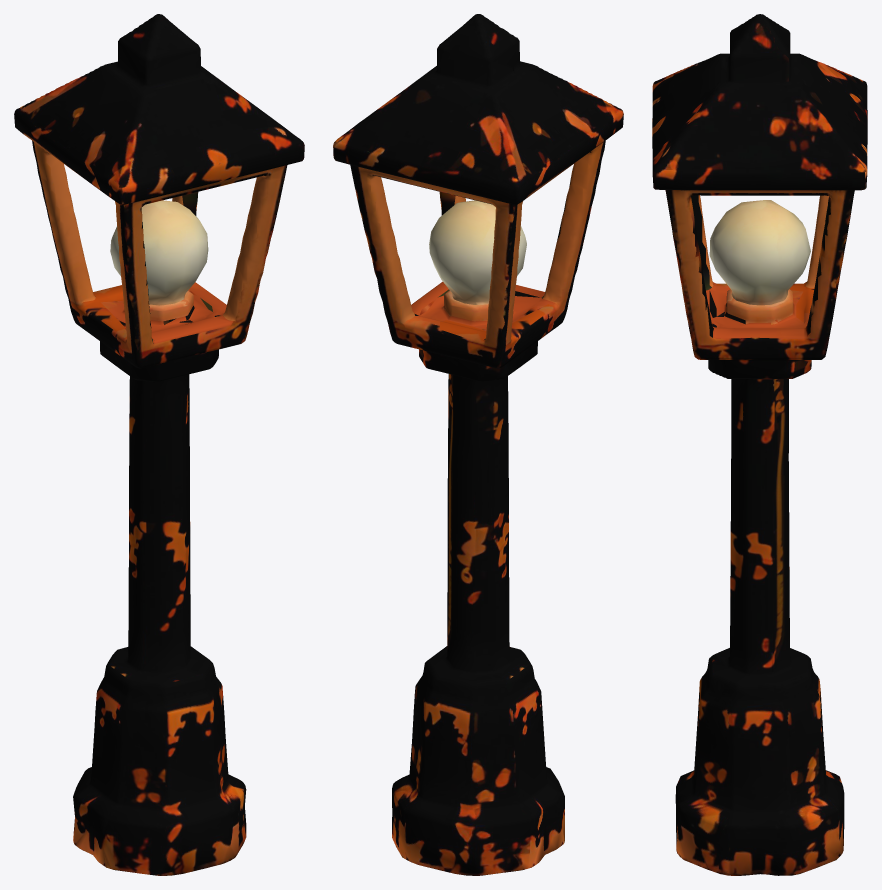
File: Low-Poly-Street-Lamppost-Vintage-Mafia-Game-Asset-.glb
3 renders of one model, left to right at view 1: azimuth 30°, elevation 25°; view 2: azimuth 150°, elevation 25°; view 3: azimuth 270°, elevation 25°, orthographic.
Visible parts, largest first — view 1: world; view 2: world; view 3: world.
Part boxes in pixels (x1,y1,x2,y2): world: [14, 14, 304, 875]; world: [333, 14, 623, 875]; world: [652, 14, 867, 875].
Bounding box in the file's own units: 0.4695 × 1.99 × 0.4676.
Materials: 1 (1 with a texture image).
